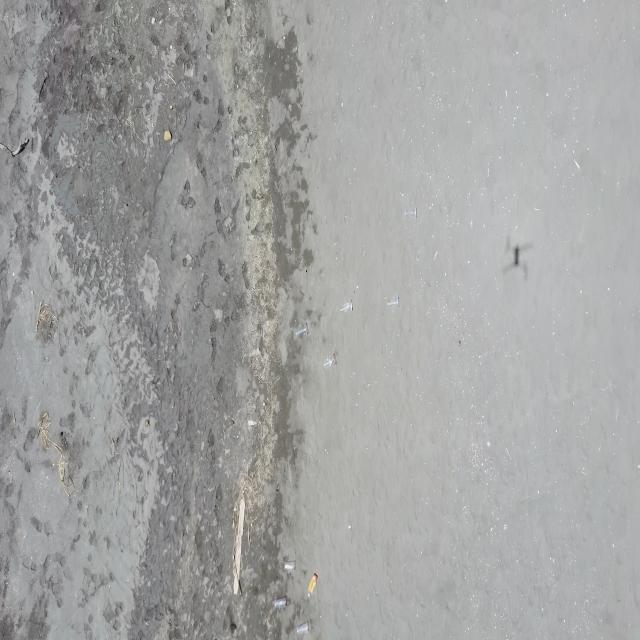plastic-bottle: (308, 572, 318, 598)
takeaway-cup: (323, 352, 338, 370), (339, 299, 354, 313), (296, 620, 310, 634), (296, 323, 308, 338), (275, 596, 287, 609), (405, 207, 417, 220), (284, 559, 296, 571), (388, 297, 400, 308)
